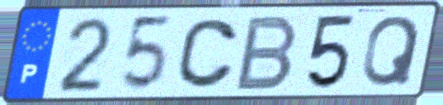2: (56, 15, 115, 95)
5: (117, 12, 180, 96), (301, 12, 361, 91)
B: (231, 12, 302, 93)
C: (173, 17, 241, 91)
Q: (359, 13, 424, 89)
